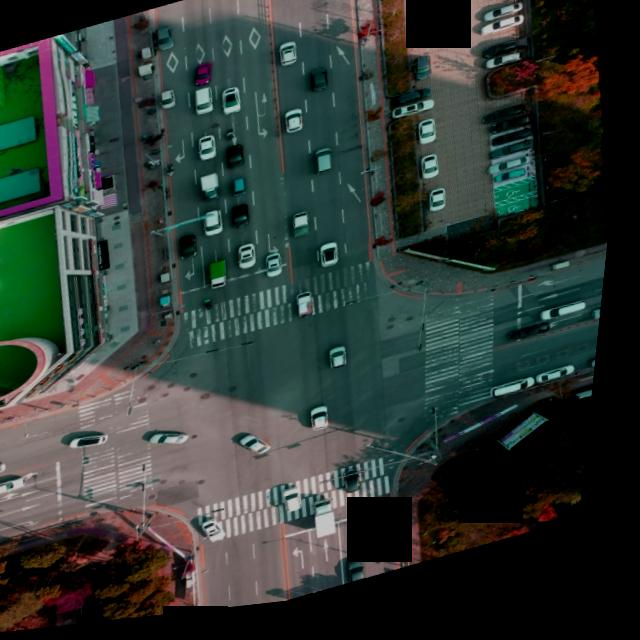car: (194, 87, 221, 120), (0, 477, 38, 500), (195, 66, 216, 90)
small_truck: (321, 504, 353, 547), (211, 261, 238, 294), (201, 174, 228, 207), (298, 294, 323, 327), (293, 215, 321, 244)
